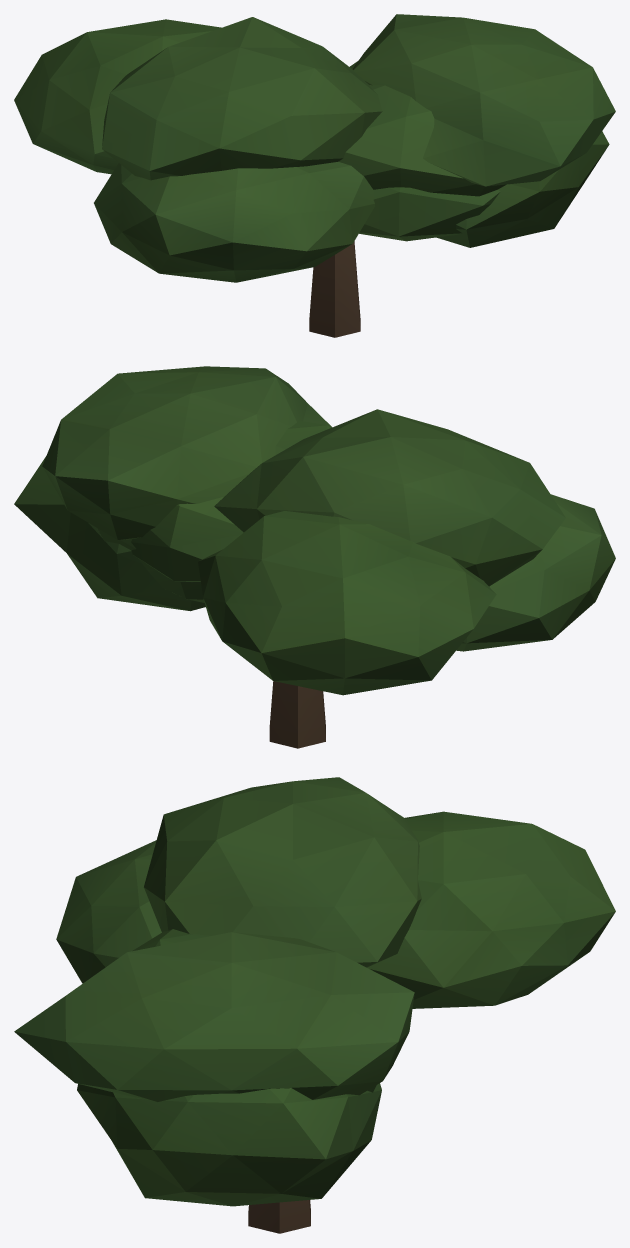
File: veg_ek_0.glb
3 renders of one model, top to bottom at view 1: azimuth 30°, elevation 25°; view 2: azimuth 150°, elevation 25°; view 3: azimuth 270°, elevation 25°, orthographic. The views are drawn at different scales.
Visible parts, largest first — view 1: geometry_0; view 2: geometry_0; view 3: geometry_0.
Boxes of the visible parts, <box> form: geometry_0: <box>14,14,615,337</box>; geometry_0: <box>14,366,615,748</box>; geometry_0: <box>14,777,615,1233</box>.
Size of the model in its own units: 1.69 by 1 by 1.51.
